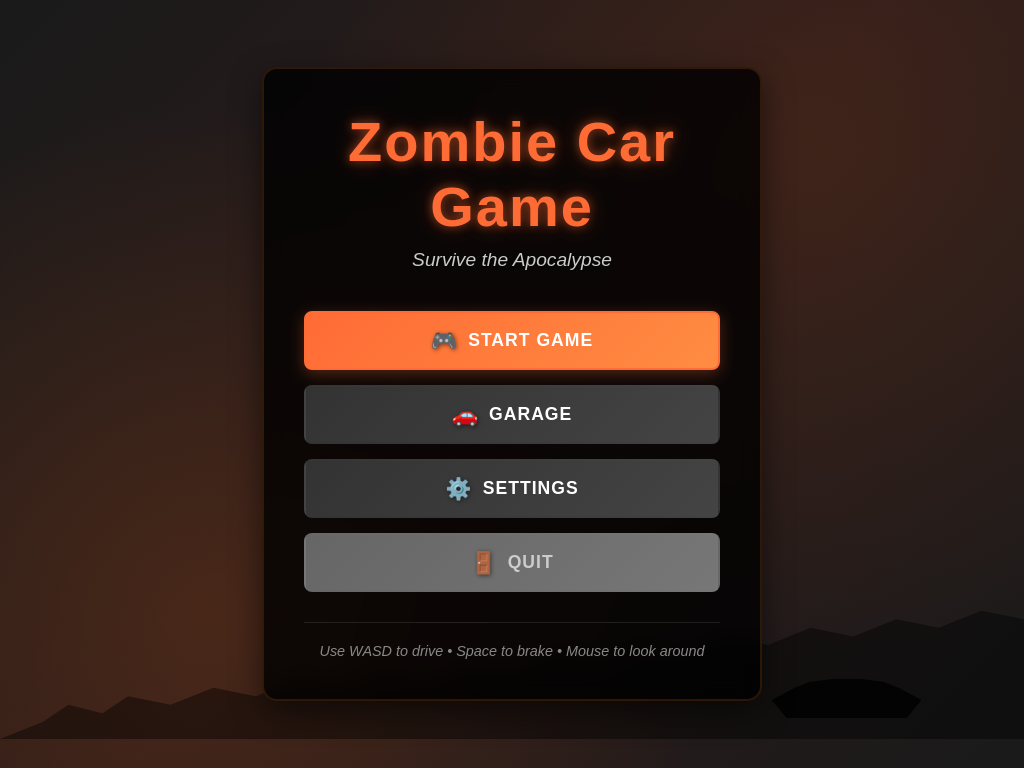
Test: UI Integration Tests › settings can be accessed from main menu
expect the heading "Zombie Car Game" is shown: met, box [348, 110, 676, 238]
Note: Open settings from main menu
Click the button "⚙️ Settings" at (512, 488), box [304, 459, 720, 518]
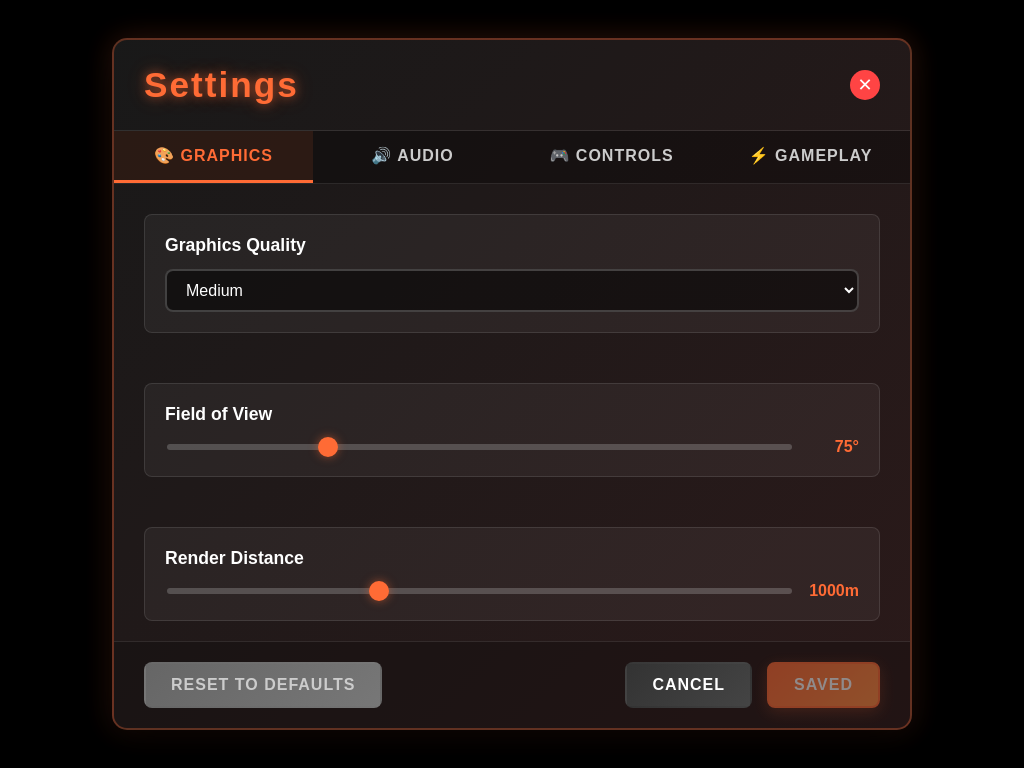
expect the heading "Settings" is shown: met, box [144, 65, 299, 105]
Note: Make a change in settings
Select "High" in the dropdown labelled "Graphics Quality" at (512, 291), box [165, 269, 859, 312]
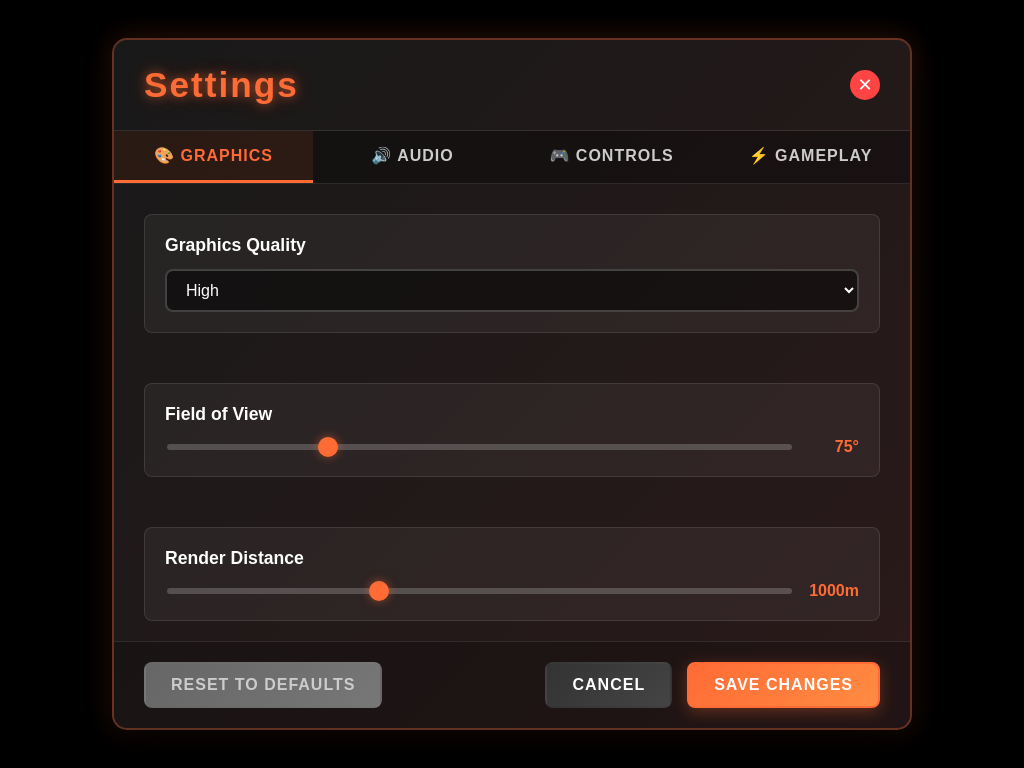
Note: Save settings
Click the button "Save Changes" at (784, 685), box [687, 662, 880, 708]
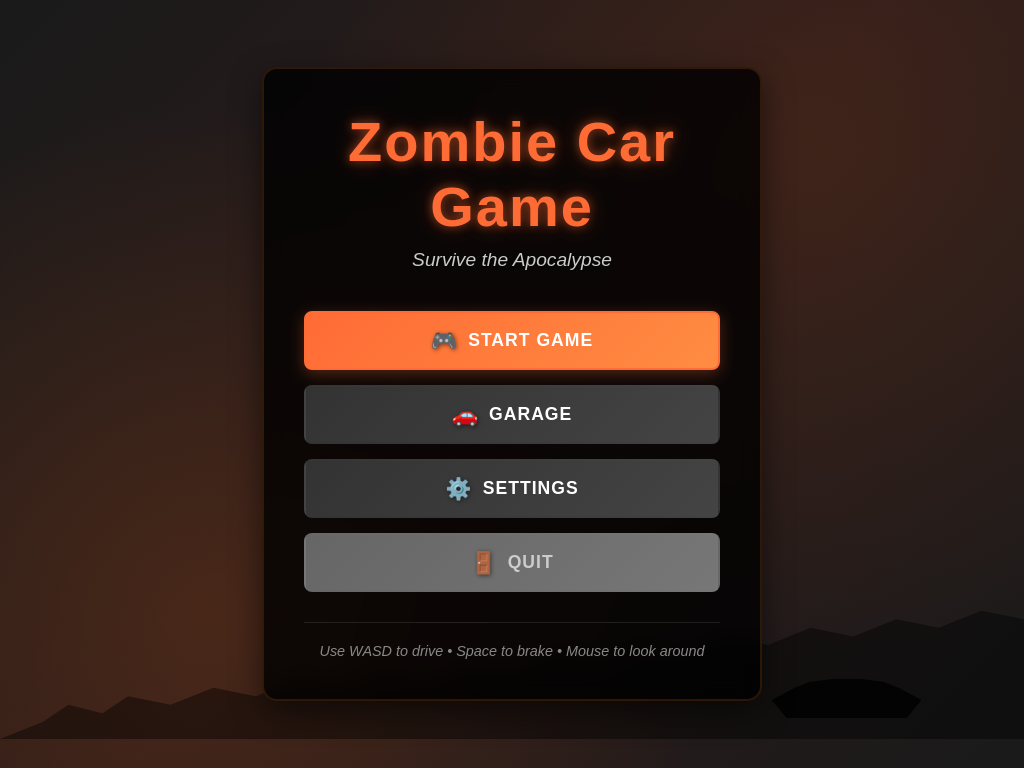
expect the heading "Zombie Car Game" is shown: met, box [348, 110, 676, 238]
